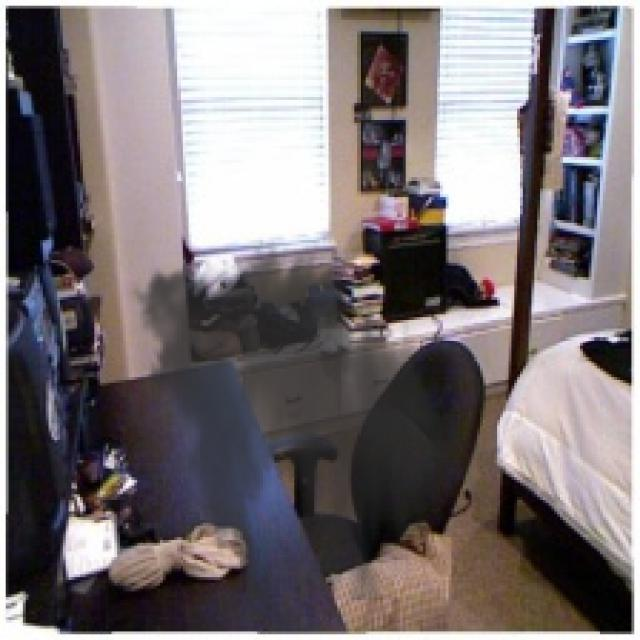smoke: (123, 234, 474, 600)
